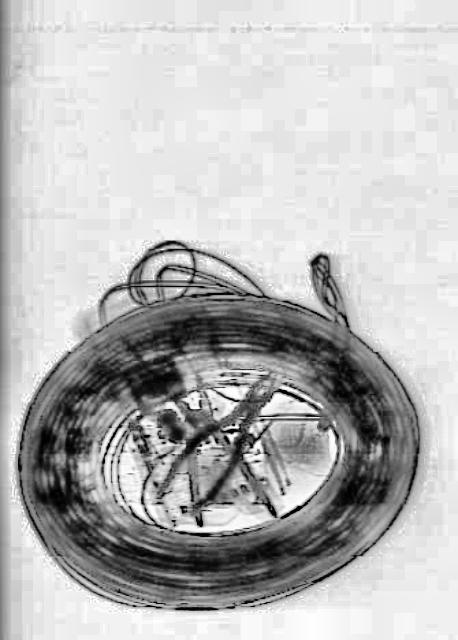Pliers: (150, 343, 290, 532), (150, 352, 278, 554)
